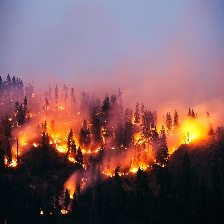fire: (4, 137, 30, 167), (169, 133, 198, 156), (50, 132, 76, 153), (58, 187, 75, 217), (67, 153, 88, 171), (128, 162, 149, 176), (101, 166, 122, 179), (132, 129, 149, 145), (54, 106, 65, 114)
smoke: (86, 22, 223, 118)
